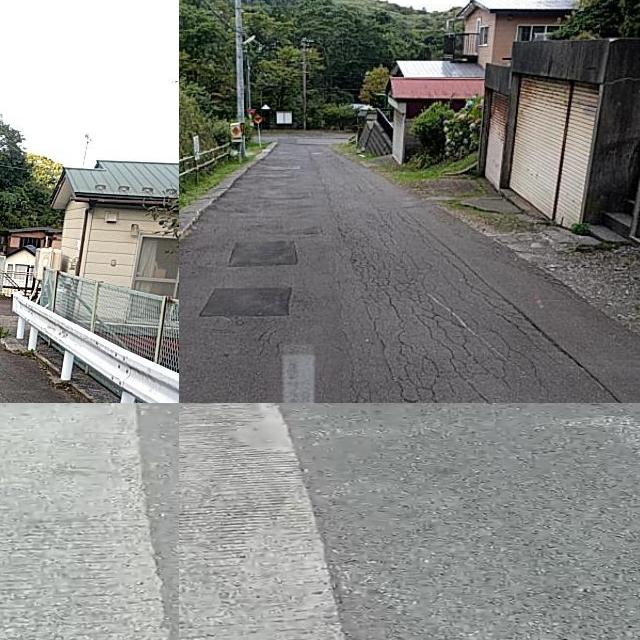Retak Buaya: (339, 220, 543, 403)
Sambungan: (0, 403, 174, 640), (179, 403, 348, 640), (206, 288, 293, 315), (232, 238, 297, 262)
